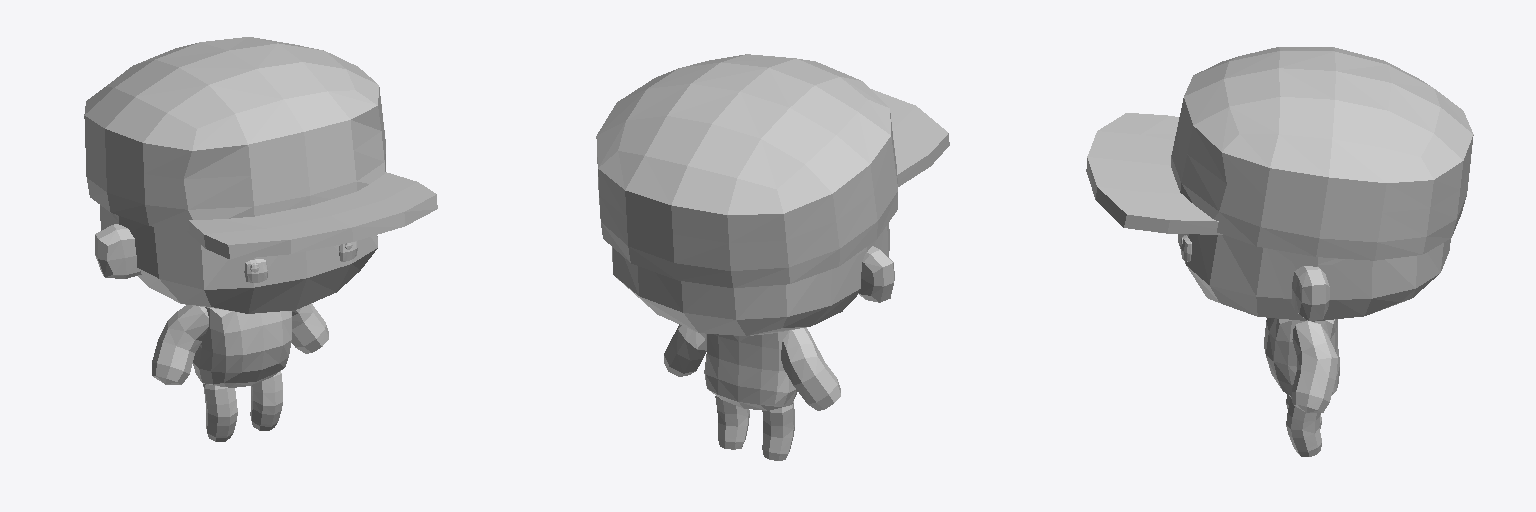
The model's file is idle_0023.obj.
3 views of the same model, side by side, from view 1: azimuth 30°, elevation 25°; view 2: azimuth 150°, elevation 25°; view 3: azimuth 270°, elevation 25° (orthographic).
Visible parts, largest first — view 1: Object_41, Object_42, Object_36, Object_44, Object_38; view 2: Object_41, Object_44, Object_36, Object_42; view 3: Object_41, Object_36, Object_42, Object_44.
Boxes of the visible parts, x1=… form: Object_41: x1=84, y1=37, x2=385, y2=230; Object_42: x1=184, y1=106, x2=437, y2=259; Object_36: x1=95, y1=205, x2=377, y2=313; Object_44: x1=152, y1=303, x2=328, y2=441; Object_38: x1=244, y1=241, x2=357, y2=282; Object_41: x1=596, y1=54, x2=897, y2=287; Object_44: x1=664, y1=324, x2=840, y2=460; Object_36: x1=612, y1=223, x2=894, y2=335; Object_42: x1=871, y1=89, x2=949, y2=186; Object_41: x1=1184, y1=47, x2=1473, y2=260; Object_36: x1=1178, y1=234, x2=1450, y2=321; Object_42: x1=1086, y1=98, x2=1226, y2=234; Object_44: x1=1264, y1=318, x2=1339, y2=456.
Size of the model in its own units: 0.9691 by 1.22 by 1.14.